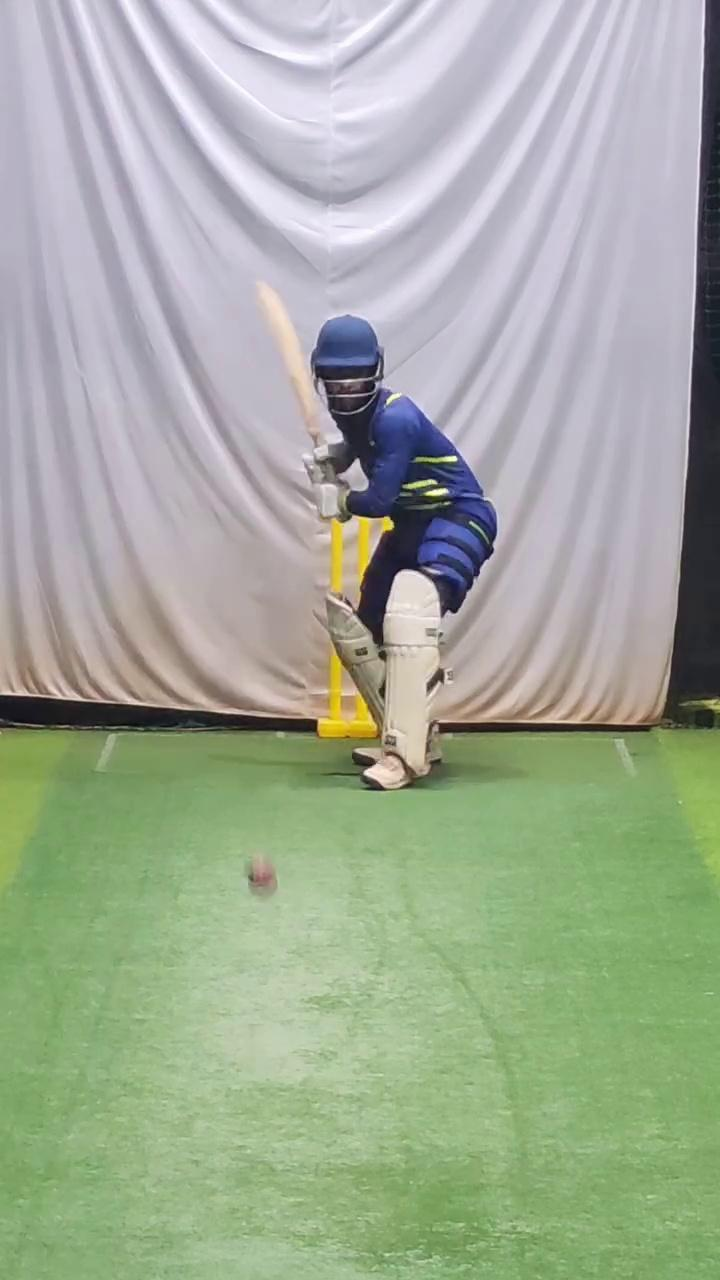bat: (250, 273, 335, 438)
